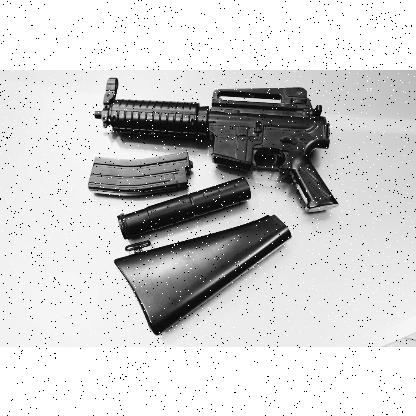gun: (93, 76, 339, 212), (96, 78, 362, 196)
